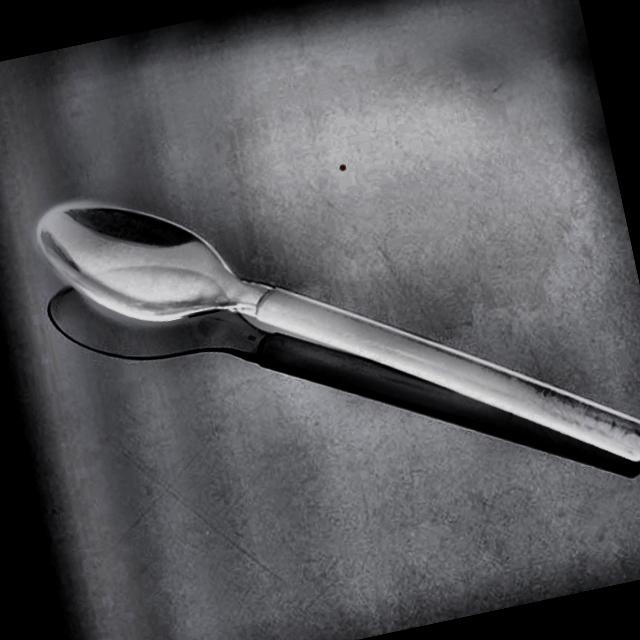plastic utensil: (32, 206, 640, 475)
